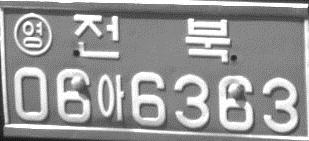0: (13, 65, 50, 122)
3: (261, 76, 300, 134), (173, 73, 210, 129)
6: (217, 74, 254, 133), (55, 67, 92, 125), (130, 71, 166, 127)
아: (96, 73, 125, 120)
영: (14, 12, 52, 56)
전북_D: (73, 13, 231, 63)
